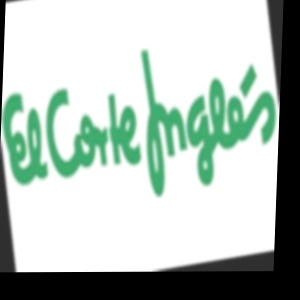corte_ingles: (279, 2, 284, 48)
